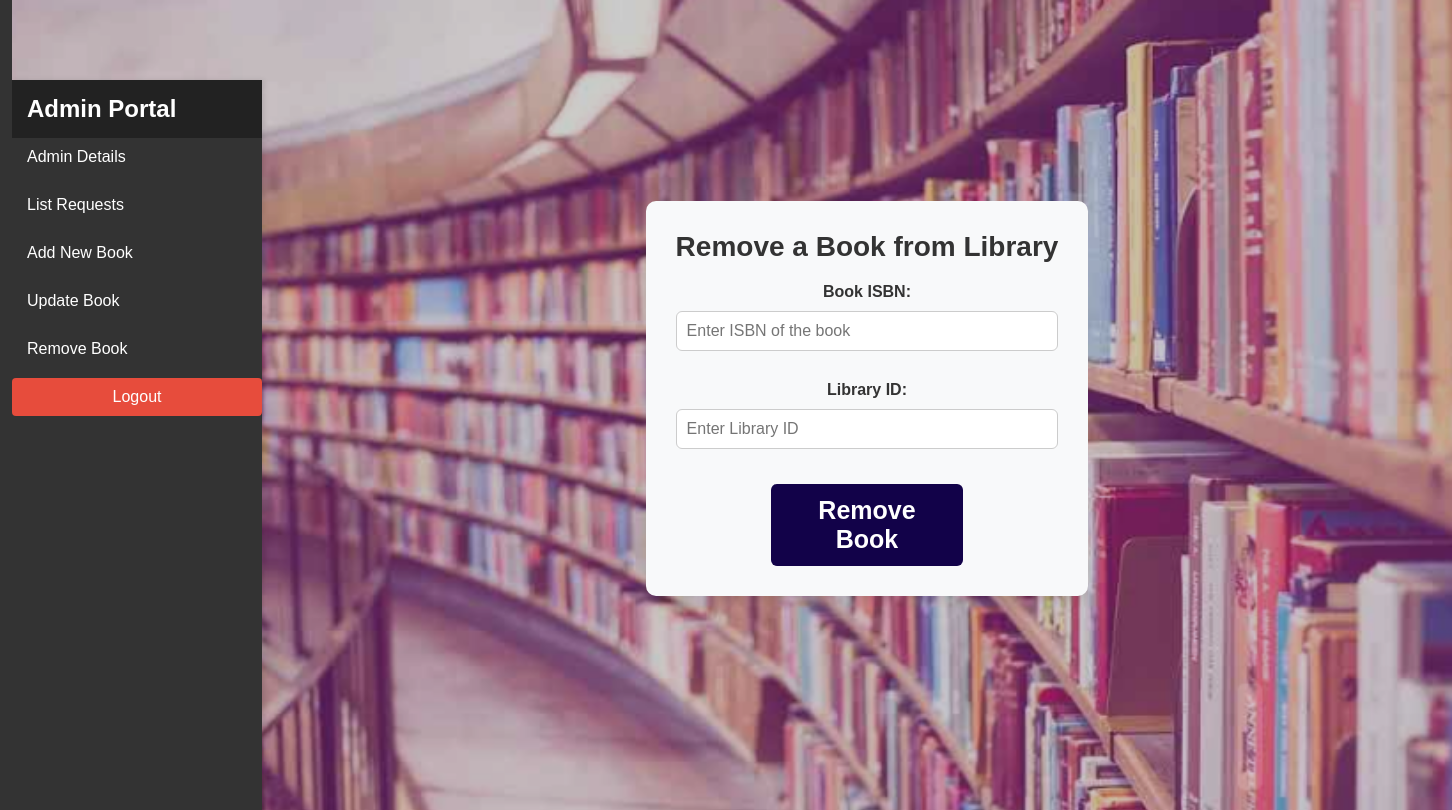
Test: displays generic error when network fails
Type "12345" into the field labelled "Book ISBN:". click: (867, 331)
box: [676, 311, 1058, 351]
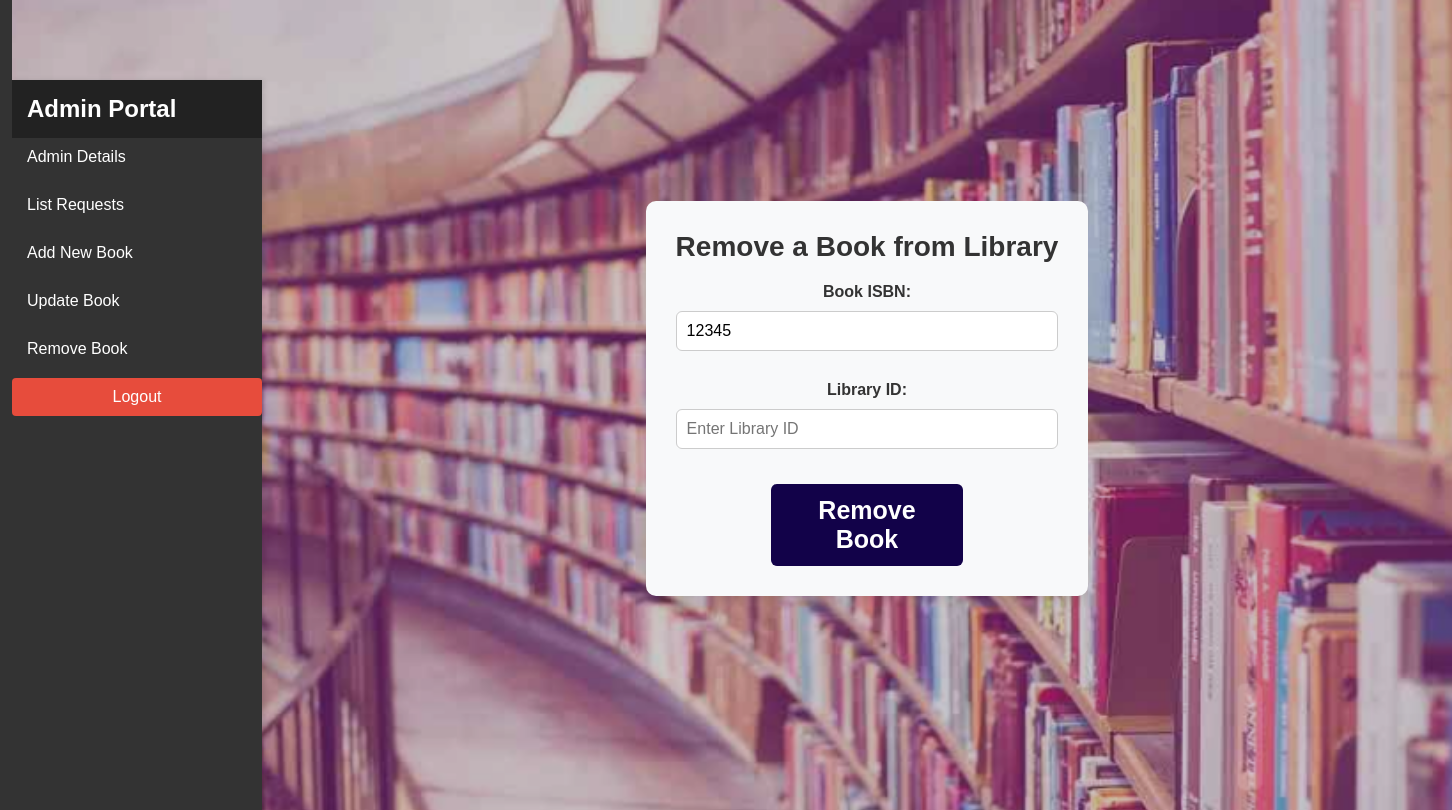
Type "1" into the number field labelled "Library ID:". click: (867, 429)
box: [676, 409, 1058, 449]
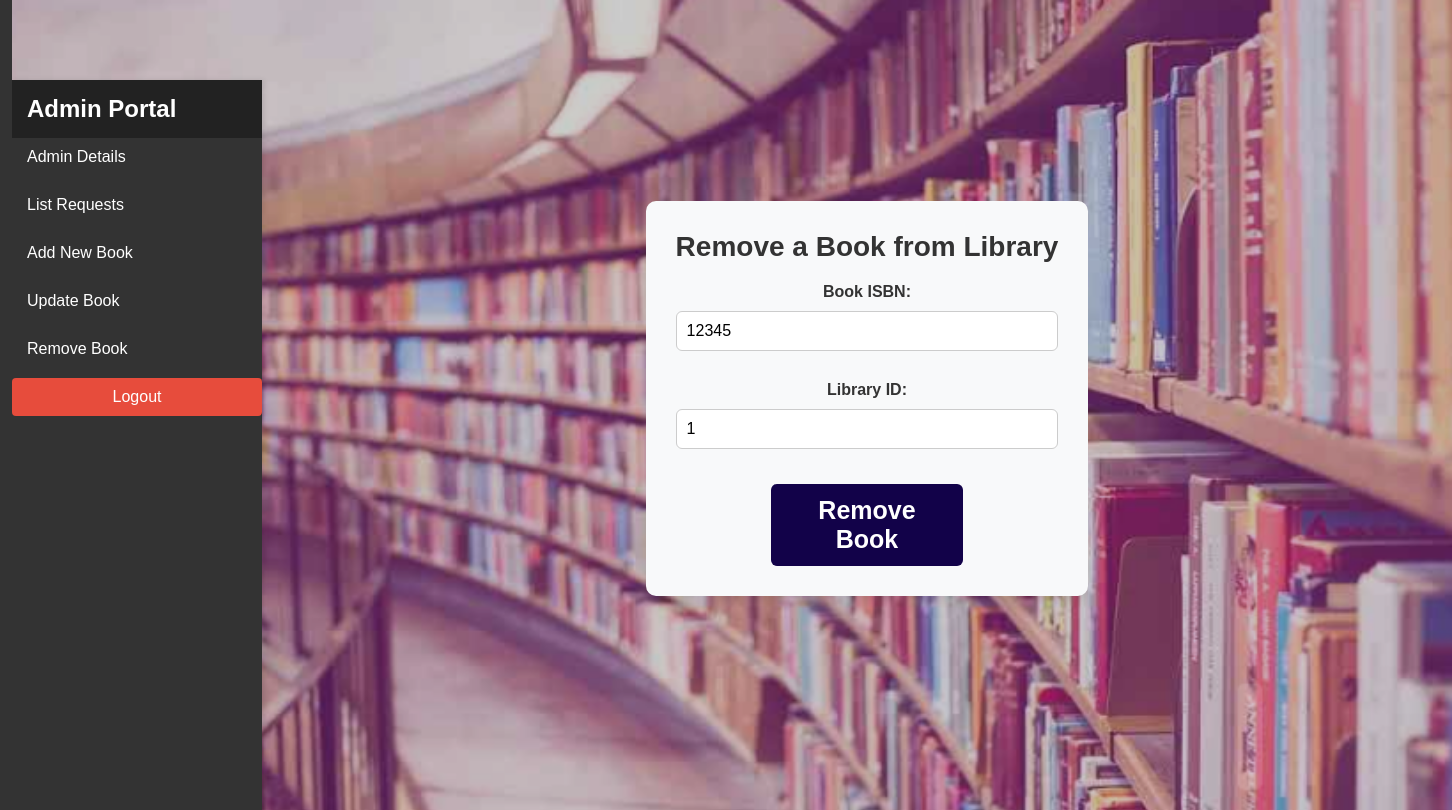
Click the button "Remove Book". click: (867, 525)
box: [771, 484, 963, 566]
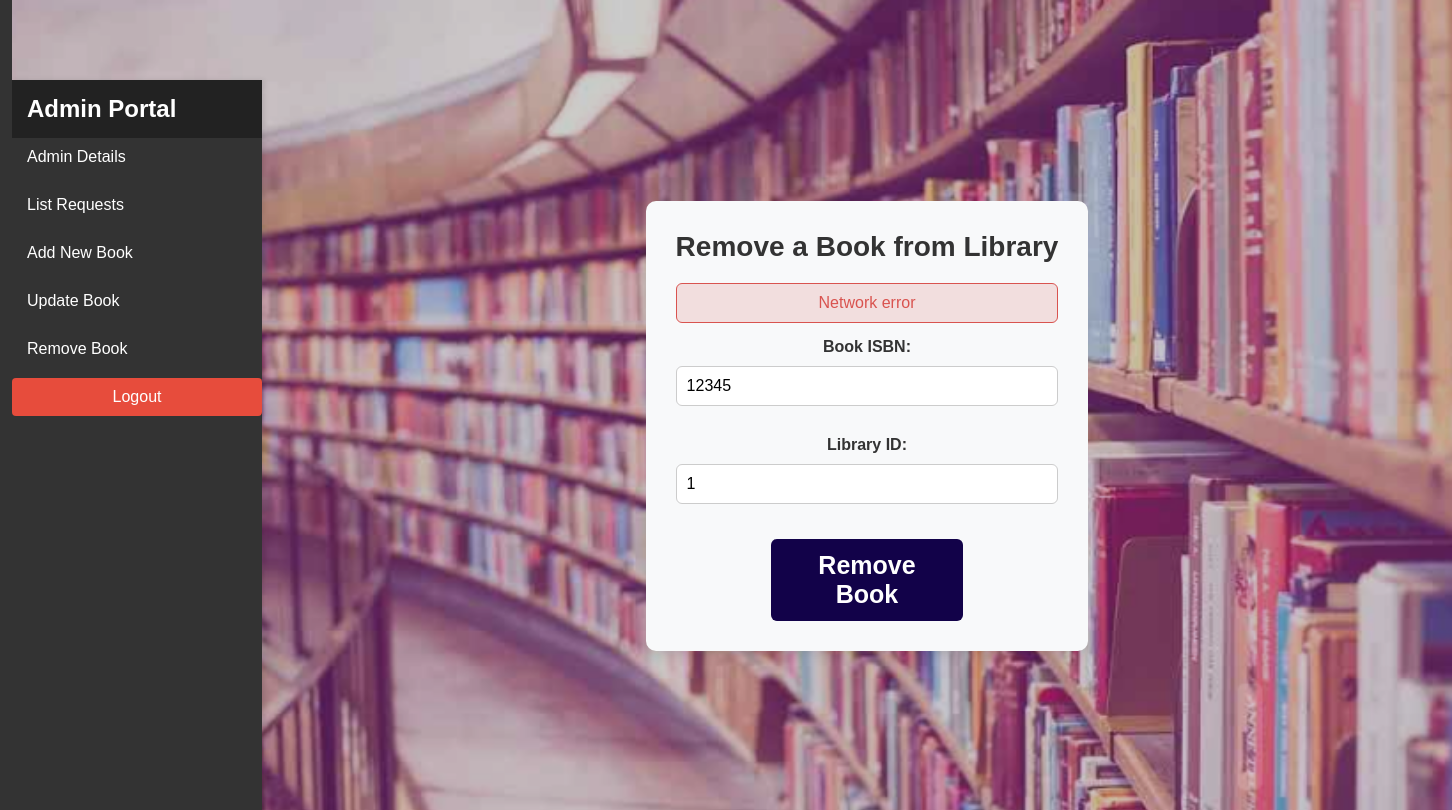
expect the text "Network error" is shown: met, box [676, 283, 1058, 323]
